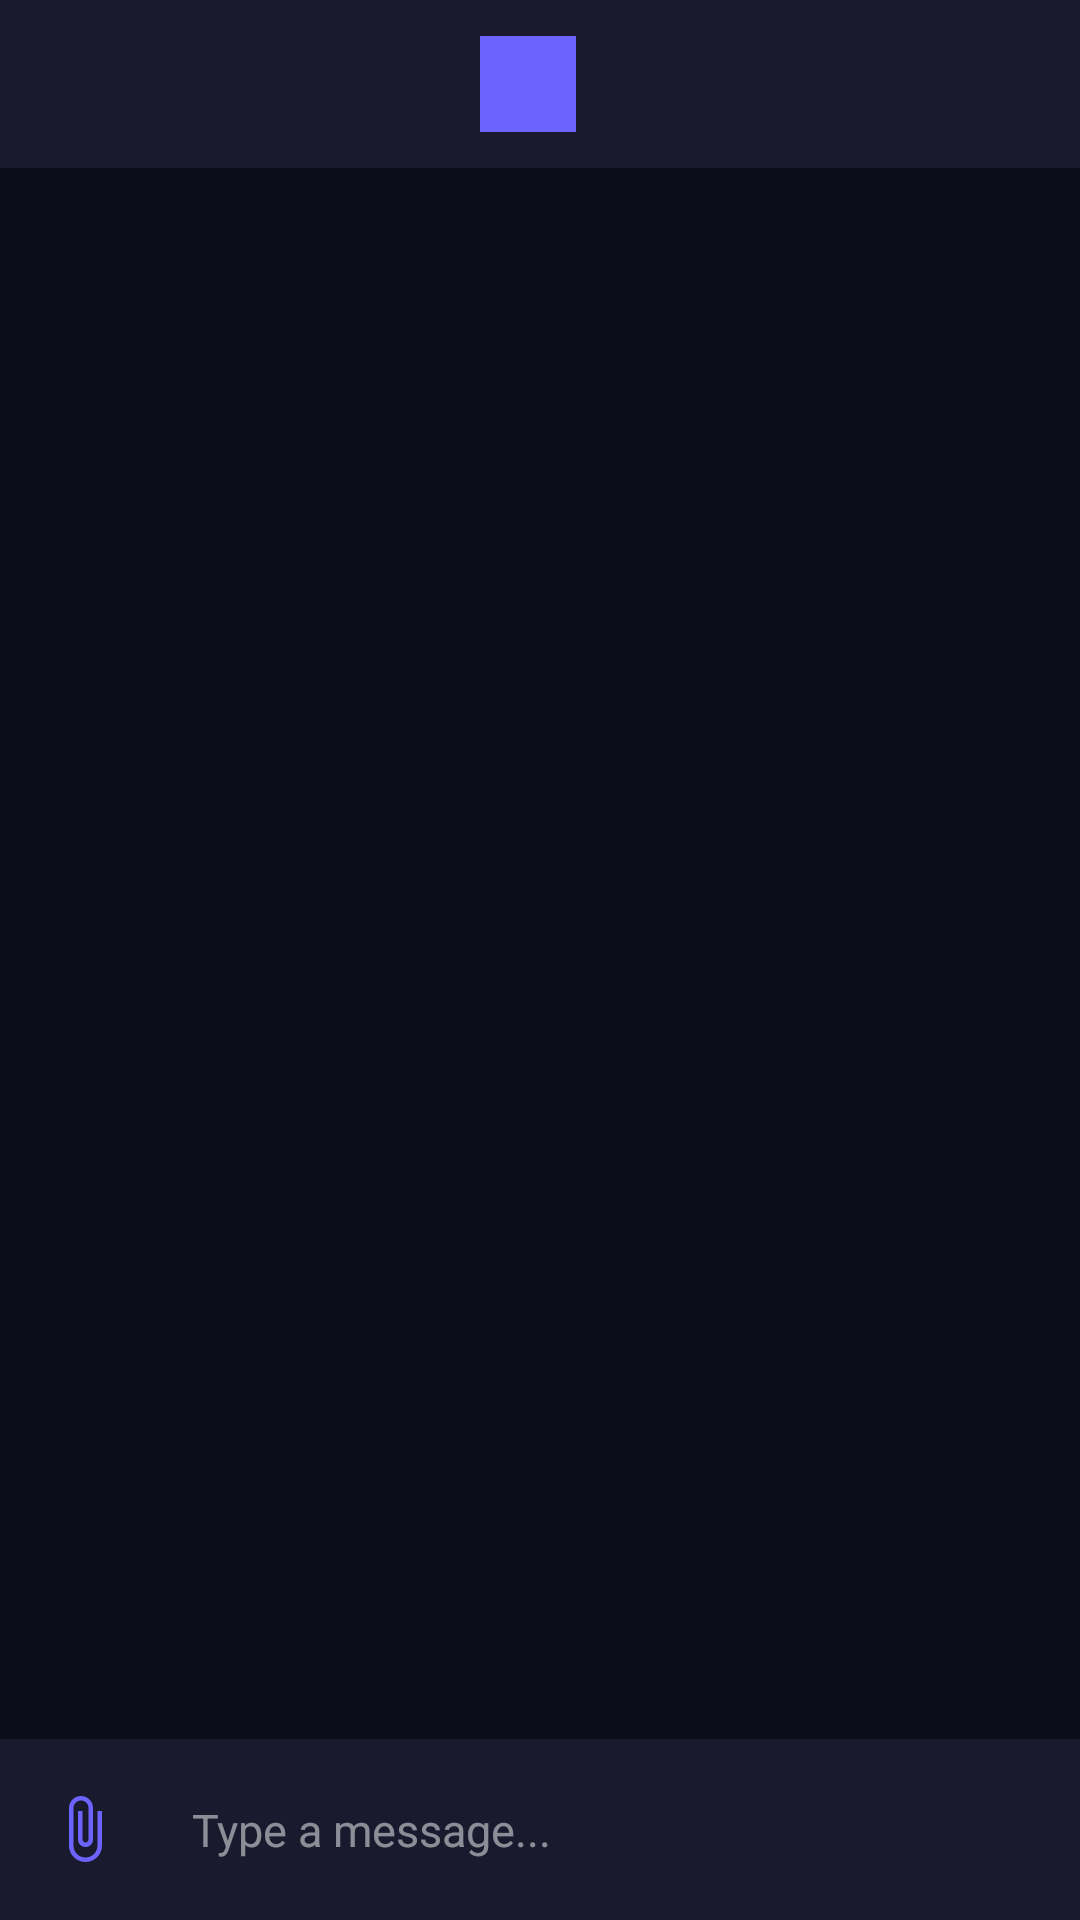

Named icons in this screenshot (1080 × 1920) and their centers, [x,y]:
attach: [85,1829]
